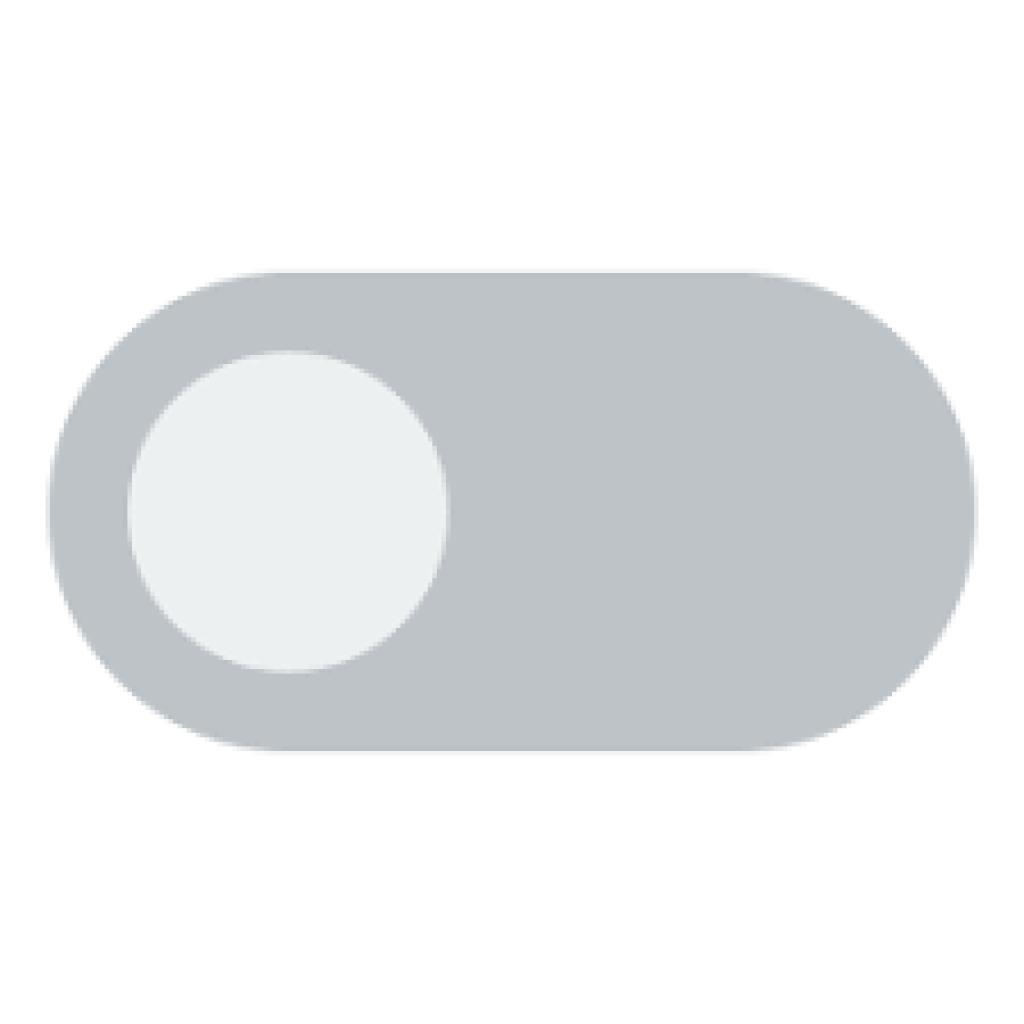switch: (48, 273, 979, 755)
